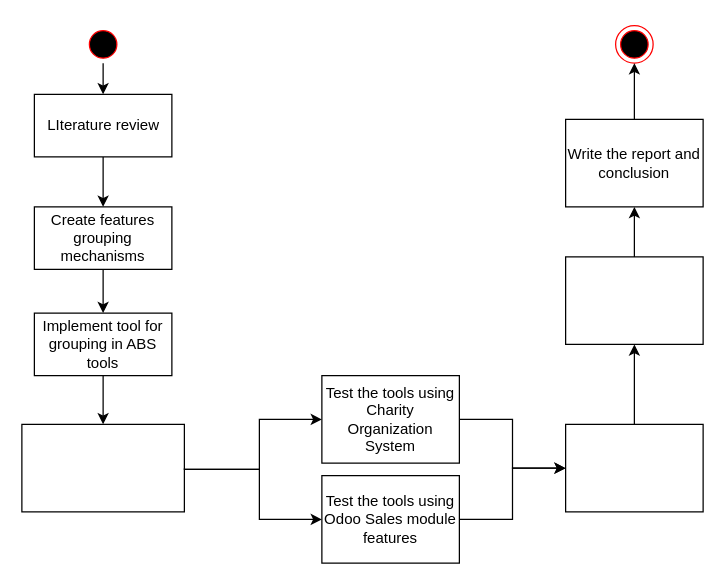
Image size: 725x585. Some labels were removed from this diagram. The shapes that lost their labels are listed below. From the top down, each one's box as (x1, y1, x2, y2) in pixels, then its label:
(564, 256, 703, 344): Evaluate the grouping mechanisms
(21, 423, 184, 512): Implement user interface for selecting features (product selection)
(564, 423, 703, 512): Analyze running system and generated code
